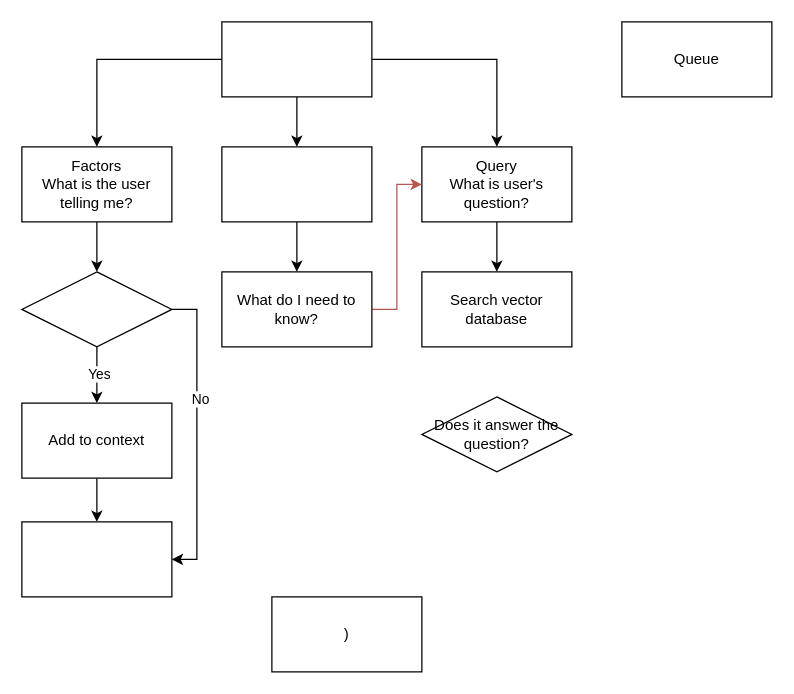
Some shapes in this 794 by 694 pixel diagram are drawn without their labels. Each missing label, with the centre of its shape:
Add to vector database: (96,559)
Directive What is user's intention?: (296,184)
Immediately relevant?: (96,309)
Prompt: (296,59)
